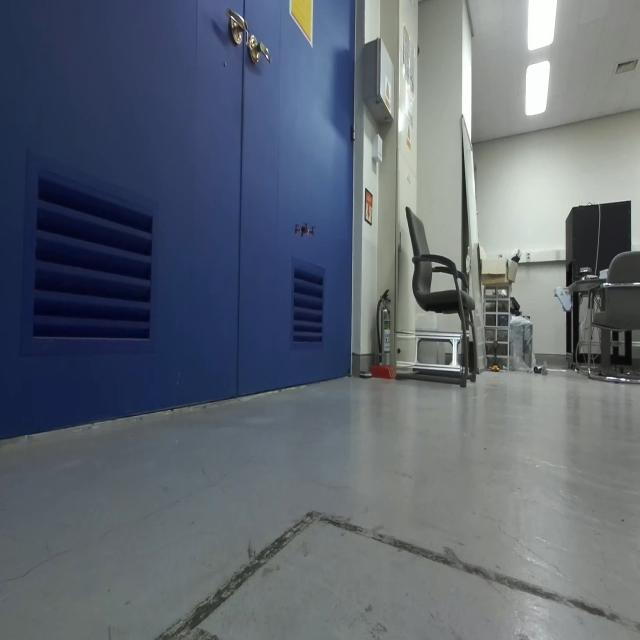crazyflie: (293, 215, 317, 245)
